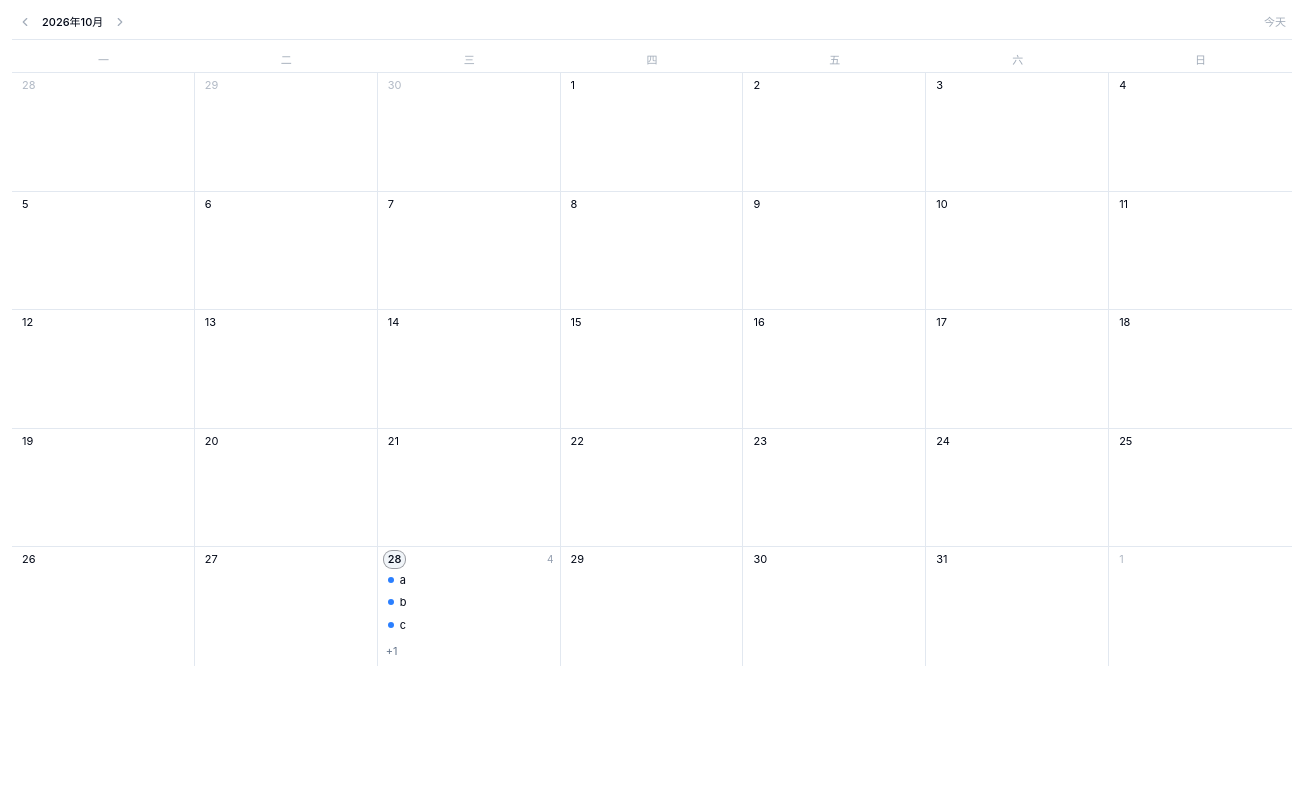
Scenario: TaskCalendar 格子信息 › 当日超过 3 条时显示 +N 并可展开
This screenshot has width=1304, height=812.
Expected: the text "a" is shown, [400, 572, 406, 586]
Expected: the text "d" is not shown
Click the button "+1".
click(469, 651)  # box [382, 641, 556, 662]
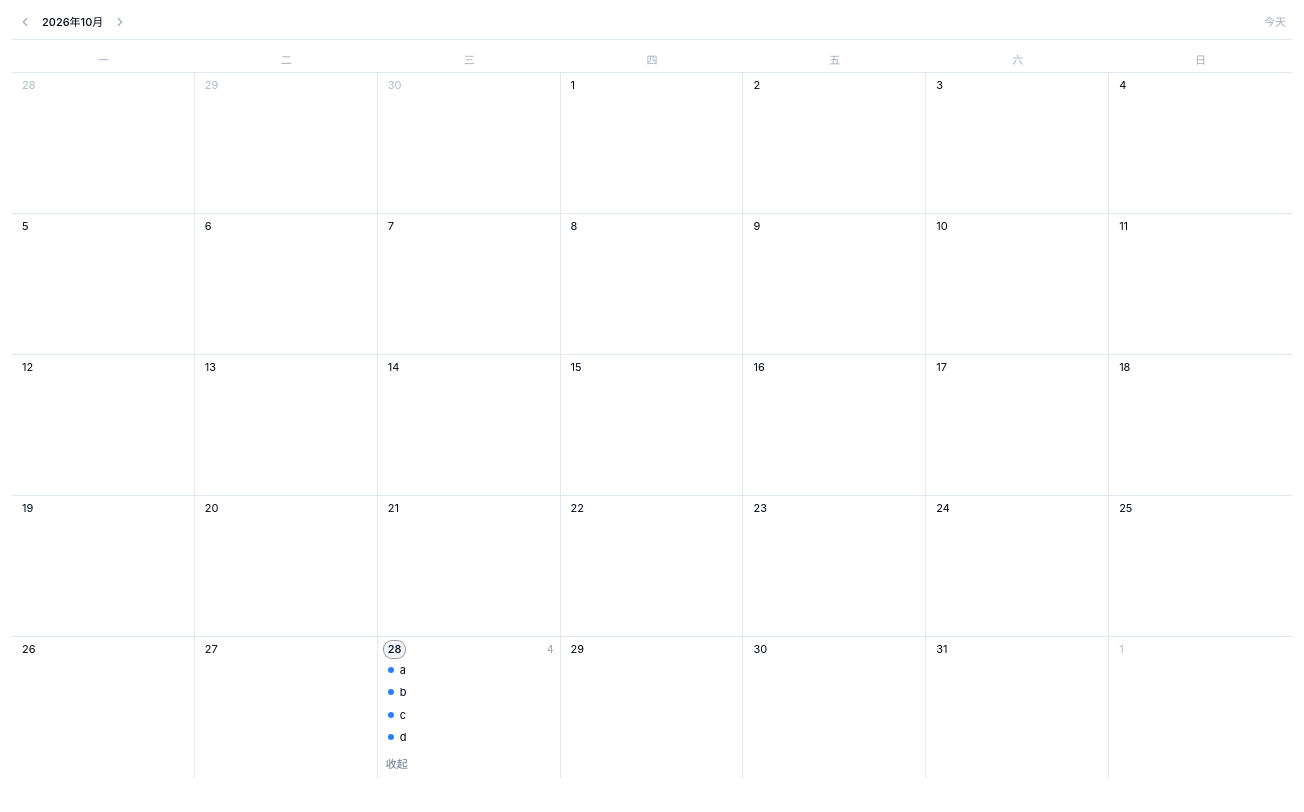
Expected: the text "d" is shown, [400, 730, 406, 744]
Expected: the button "收起" is shown, [382, 754, 556, 774]
